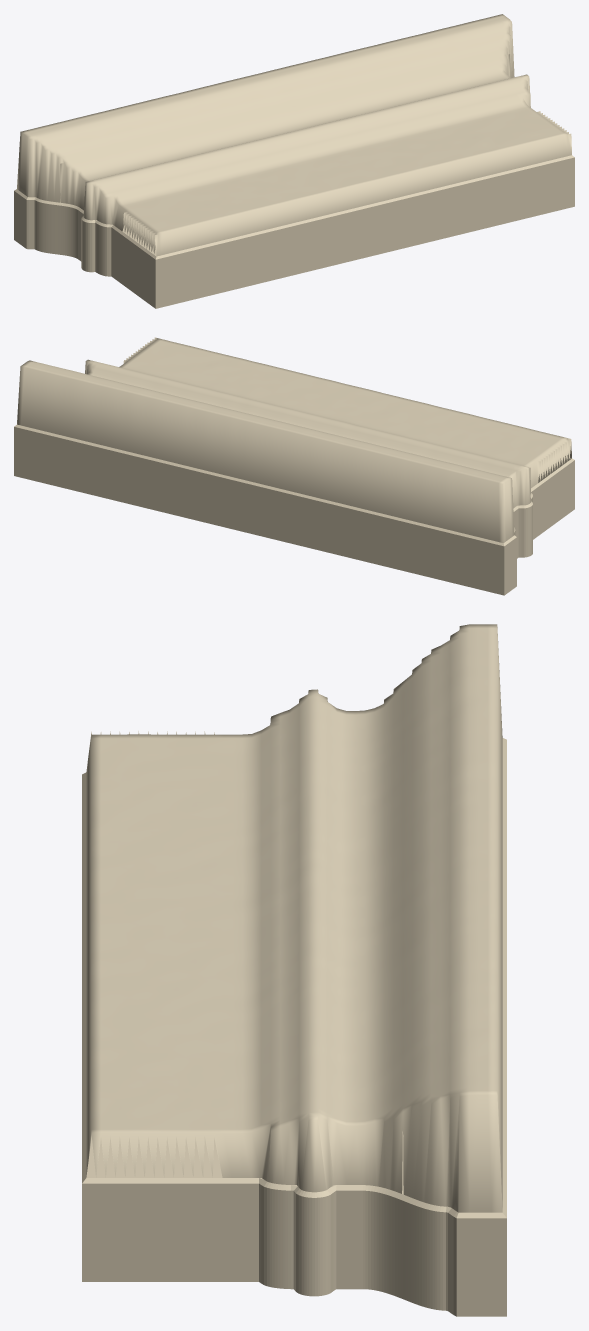
Rendered from mahsulot.glb.
3 renders of one model, top to bottom at view 1: azimuth 30°, elevation 25°; view 2: azimuth 150°, elevation 25°; view 3: azimuth 270°, elevation 25°, orthographic. The views are drawn at different scales.
Visible parts, largest first — view 1: mahsulot; view 2: mahsulot; view 3: mahsulot.
Part boxes in pixels (x1=…): mahsulot: x1=14, y1=14, x2=574, y2=308; mahsulot: x1=14, y1=337, x2=574, y2=595; mahsulot: x1=82, y1=624, x2=506, y2=1316.
Size of the model in its own units: 0.4 by 0.085 by 0.15.
